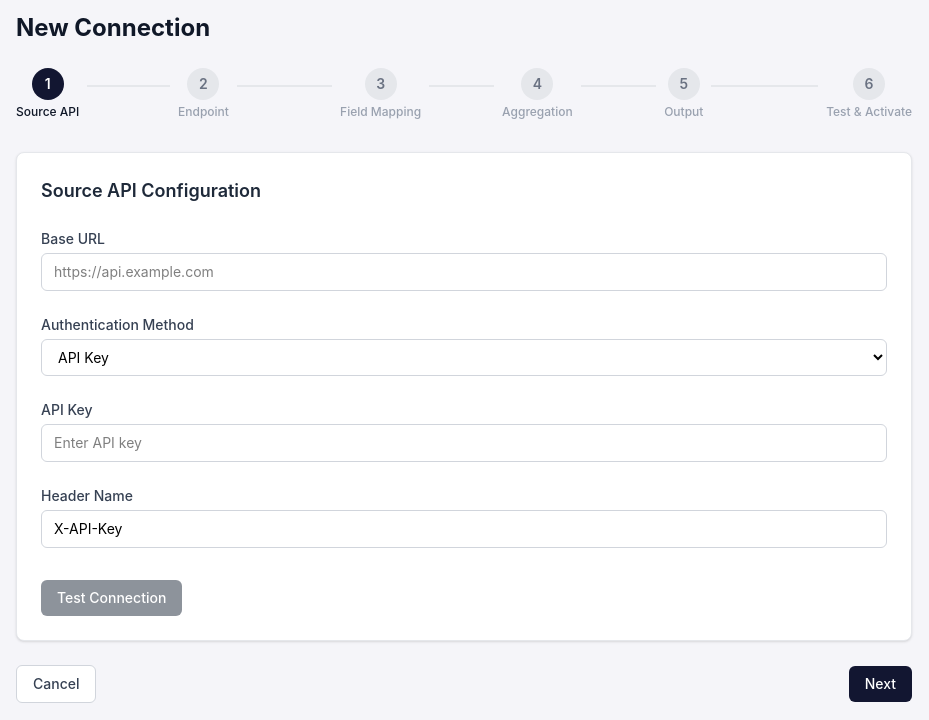
Test: WizardView › navigates to step 2 when next is clicked and step 1 is valid
Click the button with test id "next-button" at [880, 684], box [849, 666, 912, 702]
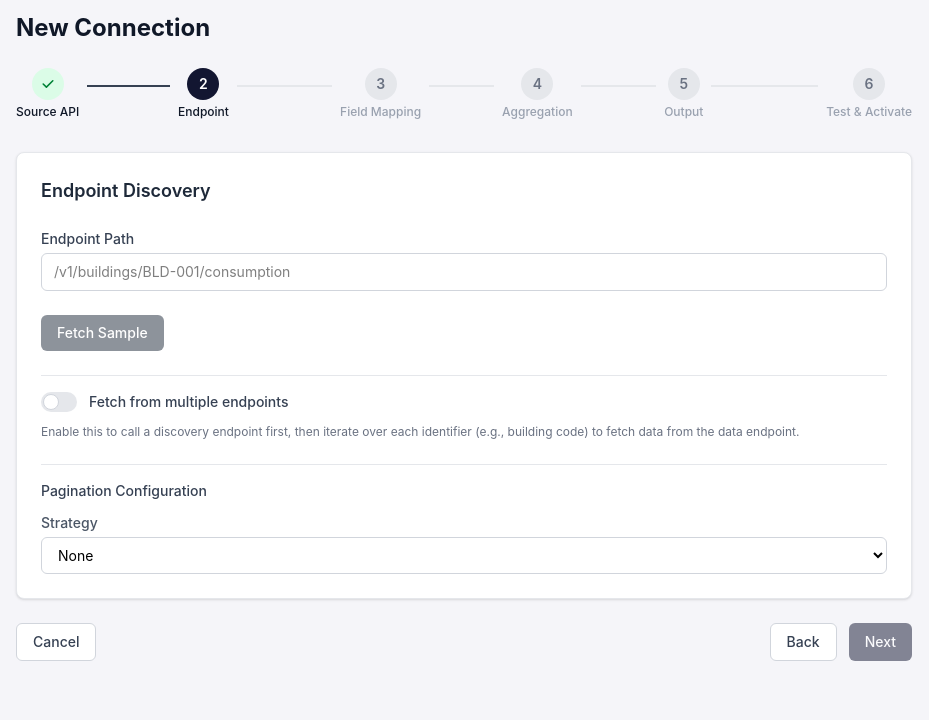
Now the text "Endpoint Discovery" is shown, box [41, 180, 211, 201]
